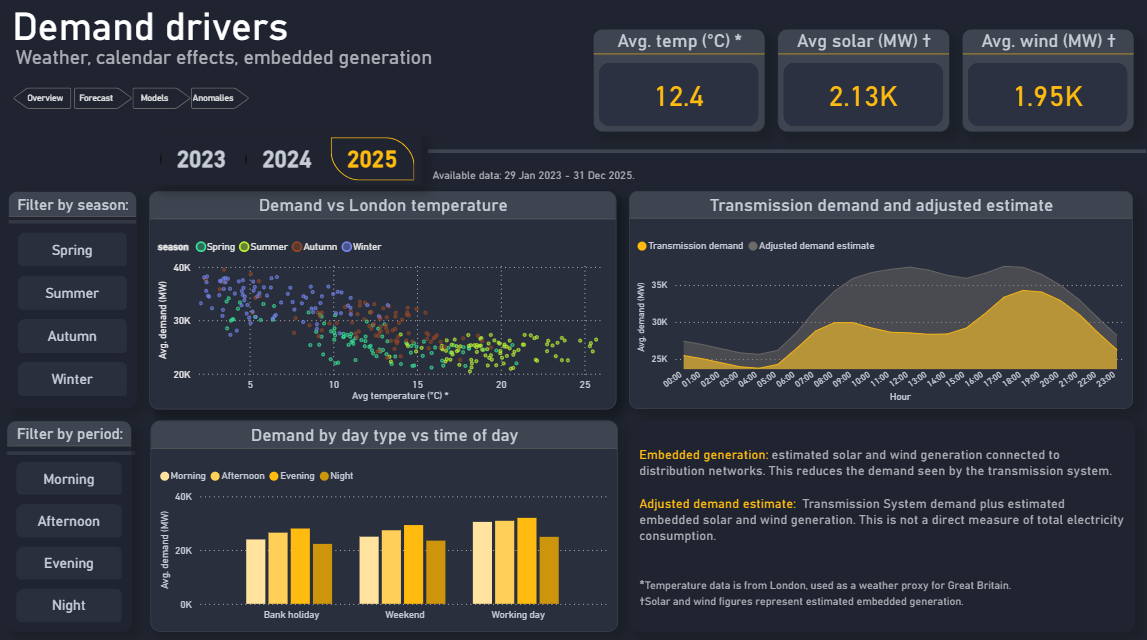

Layout of this report page (visuals, bound fields, positions):
{"tool":"powerbi","page":{"name":"Demand drivers","canvas":[1280,720],"ordinal":1},"visuals":[{"type":"shape","box":[11.9,444.3,142.6,119.1],"z":0},{"type":"shape","box":[13.1,185.2,142.6,125],"z":1000},{"type":"shape","box":[480.4,107.8,798,121.6],"z":2000},{"type":"scatterChart","title":"Demand vs London temperature","fields":{"Category":["dim_calendar.date"],"Series":["dim_calendar.season"],"X":["Avg(fct_drivers.temperature_c)"],"Y":["Avg(fct_drivers.actual_mw)"]},"box":[170.5,213.6,519.5,242.7],"z":3000},{"type":"lineChart","title":"Transmission demand and adjusted estimate","fields":{"Category":["dim_time.hour_label"],"Y":["Avg(fct_drivers.actual_mw)","Avg(fct_drivers.underlying_demand_mw)"]},"box":[703.3,213.3,560,242.2],"z":4000},{"type":"clusteredColumnChart","title":"Demand by day type vs  time of day","fields":{"Category":["dim_calendar.day_type"],"Series":["dim_time.period_of_day"],"Y":["Avg(fct_drivers.actual_mw)"]},"box":[171.6,469.1,519.3,234.4],"z":5000},{"type":"group","id":"g1","title":"Group 4","box":[1072.6,33.3,191.5,114.9],"z":6000,"group":"g6"},{"type":"group","id":"g2","title":"Group 4","box":[662.9,33.6,191.5,114.9],"z":6000,"group":"g4"},{"type":"group","id":"g3","title":"Group 4","box":[868.1,33.6,191.5,114.9],"z":6000,"group":"g5"},{"type":"advancedSlicerVisual","title":"Filter by season:","fields":{"Values":["dim_calendar.season"]},"box":[13,213,143,241],"z":6000},{"type":"advancedSlicerVisual","fields":{"Values":["dim_calendar.year"]},"box":[176.1,147.8,295.7,58.7],"z":7000},{"type":"cardVisual","title":"Avg. wind (MW) †","fields":{"Data":["_Measures.Avg embedded wind (MW)"]},"box":[1072.6,33.3,191.5,114.9],"z":8000,"group":"g1"},{"type":"cardVisual","title":"Avg. temp (°C) *","fields":{"Data":["_Measures.Avg Temperature (°C)"]},"box":[662.9,33.6,191.5,114.9],"z":8000,"group":"g2"},{"type":"cardVisual","title":"Avg solar (MW) †","fields":{"Data":["_Measures.Avg embedded solar"]},"box":[868.1,33.6,191.5,114.9],"z":8000,"group":"g3"},{"type":"advancedSlicerVisual","title":"Filter by period:","fields":{"Values":["dim_time.period_of_day"]},"box":[12.3,469.1,139.5,234.6],"z":8000},{"type":"textbox","box":[704.2,468.8,560.4,235.4],"z":9000},{"type":"group","id":"g4","title":"Group 2","box":[662.9,33.6,191.4,114.7],"z":10000},{"type":"group","id":"g5","title":"Group 2","box":[868.1,33.6,191.4,114.7],"z":11000},{"type":"group","id":"g6","title":"Group 2","box":[1072.6,33.3,191.1,114.9],"z":12000},{"type":"textbox","box":[480,180,421.7,51.7],"z":13000},{"type":"textbox","box":[13,0,378.3,67.4],"z":14000},{"type":"textbox","box":[15.9,47.2,540,35],"z":15000},{"type":"actionButton","box":[19,97.6,65.2,23.8],"z":16000},{"type":"actionButton","box":[86.6,97.7,65.2,23.8],"z":17000},{"type":"actionButton","box":[151.7,97.7,65.2,23.8],"z":18000},{"type":"actionButton","box":[216.9,98,65.2,23.8],"z":19000}]}

Visuals, with their boxes in screenshot pixels (x1, y1, x2, y2), scaled from the page's 1280x720 canvas onto the 1147x640 screenshot:
shape: bbox(11, 395, 138, 501)
shape: bbox(12, 165, 140, 276)
shape: bbox(430, 96, 1146, 204)
"Demand vs London temperature" scatterChart: bbox(153, 190, 618, 406)
"Transmission demand and adjusted estimate" lineChart: bbox(630, 190, 1132, 405)
"Demand by day type vs  time of day" clusteredColumnChart: bbox(154, 417, 619, 625)
"Group 4" group: bbox(961, 30, 1133, 132)
"Group 4" group: bbox(594, 30, 766, 132)
"Group 4" group: bbox(778, 30, 950, 132)
"Filter by season:" advancedSlicerVisual: bbox(12, 189, 140, 404)
advancedSlicerVisual - dim_calendar.year: bbox(158, 131, 423, 184)
"Avg. wind (MW) †" cardVisual: bbox(961, 30, 1133, 132)
"Avg. temp (°C) *" cardVisual: bbox(594, 30, 766, 132)
"Avg solar (MW) †" cardVisual: bbox(778, 30, 950, 132)
"Filter by period:" advancedSlicerVisual: bbox(11, 417, 136, 626)
textbox: bbox(631, 417, 1133, 626)
"Group 2" group: bbox(594, 30, 766, 132)
"Group 2" group: bbox(778, 30, 949, 132)
"Group 2" group: bbox(961, 30, 1132, 132)
textbox: bbox(430, 160, 808, 206)
textbox: bbox(12, 0, 351, 60)
textbox: bbox(14, 42, 498, 73)
actionButton: bbox(17, 87, 75, 108)
actionButton: bbox(78, 87, 136, 108)
actionButton: bbox(136, 87, 194, 108)
actionButton: bbox(194, 87, 253, 108)
